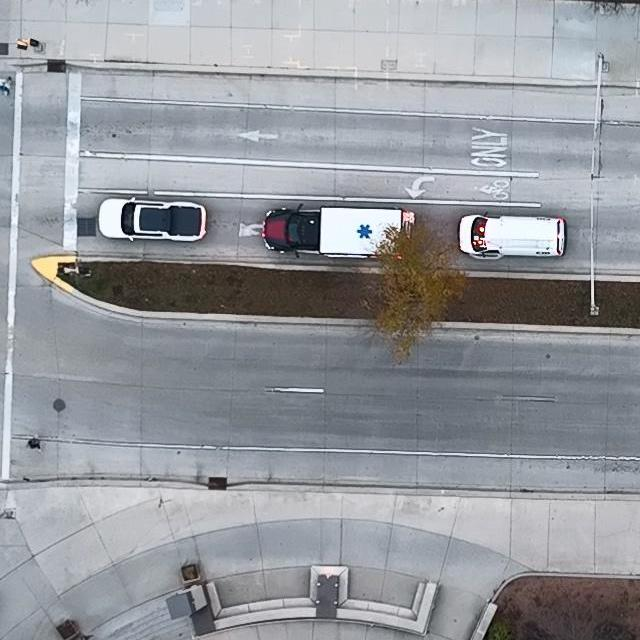car: (262, 204, 414, 262), (458, 210, 566, 261), (98, 197, 207, 242)
